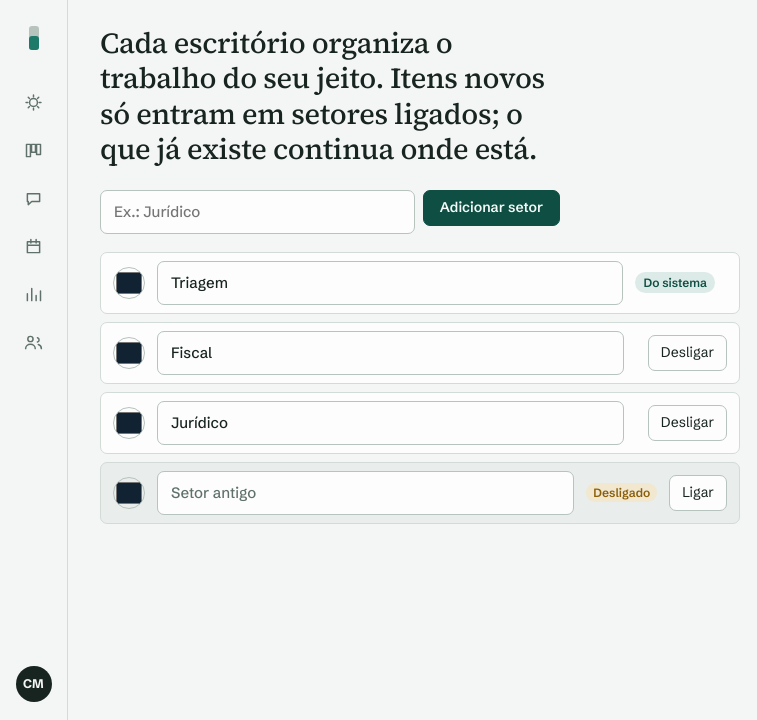
Test: sectors page › does not send an empty name
Step 1. Click the button "Adicionar setor" → (491, 208), box [423,190,560,226]
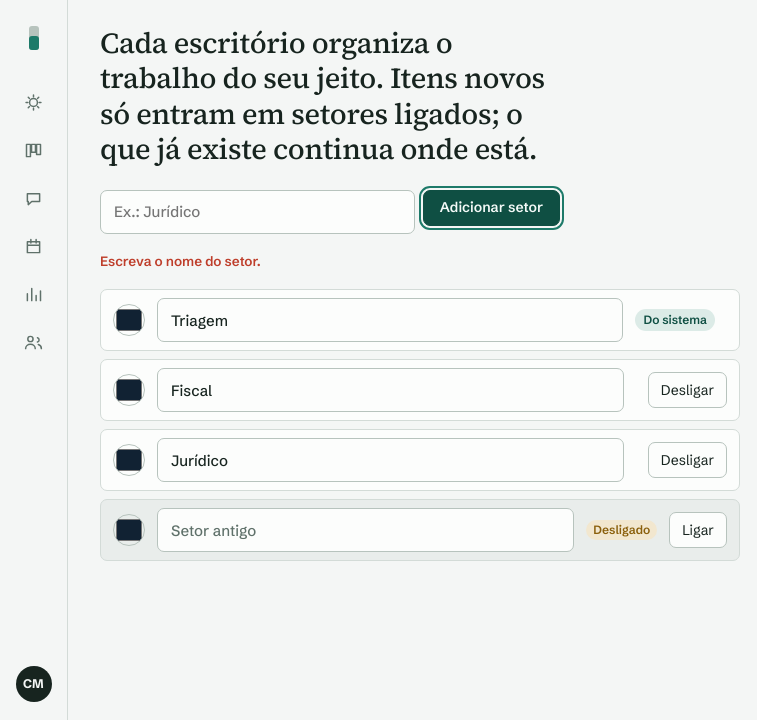
Check: the text "Escreva o nome do setor." is shown, box [100,252,261,268]
